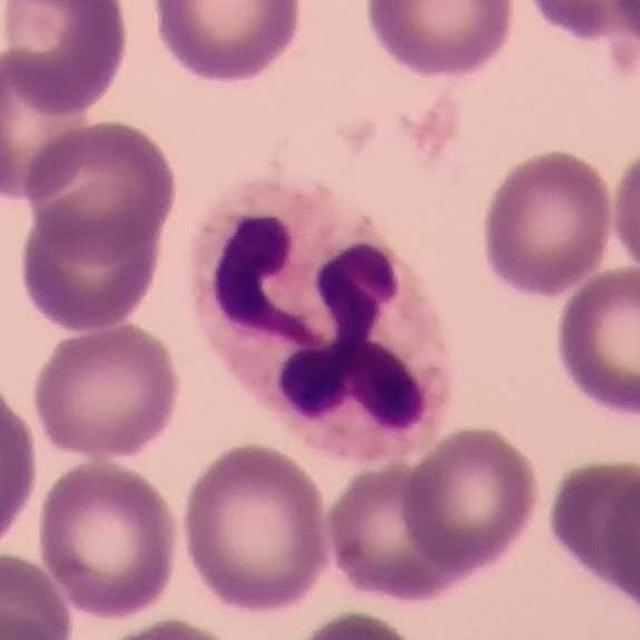Neutrophil: (193, 178, 450, 461)
